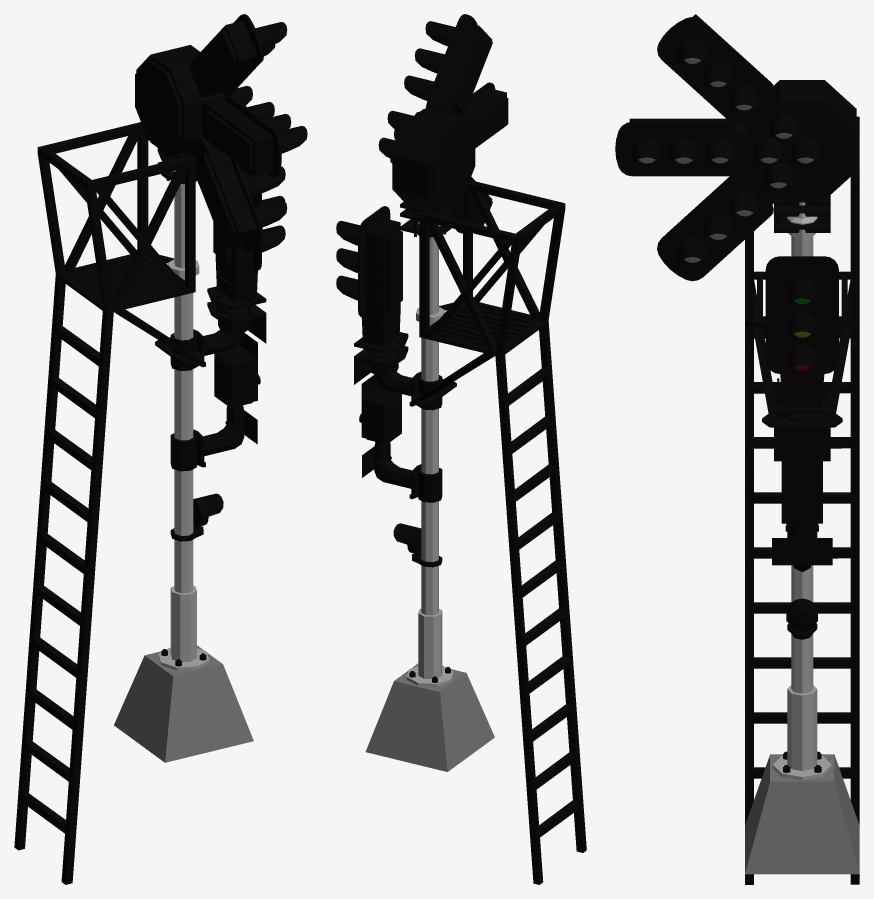
File: home-signal-transformed.glb
3 renders of one model, left to right at view 1: azimuth 30°, elevation 25°; view 2: azimuth 150°, elevation 25°; view 3: azimuth 270°, elevation 25°, orthographic. The views are drawn at different scales.
Parts seen in each view (by area): view 1: Stairs.001, stand.001, pole.001, Octagon_with_7.001, SLLL.001, SLLM, SLLT, Lights_1.001, cube.001, board.003, board.002, FS_3.001 (+4 smaller); view 2: Stairs.001, stand.001, pole.001, Octagon_with_7.001, Lights_1.001, SLLT, cube.001, SLLM, board.003, board.002, FS_3.001, FS_2.001 (+5 smaller); view 3: Stairs.001, stand.001, Lights_1.001, Octagon_with_7.001, pole.001, SLLM, SLLT, SLLL.001, hs_18.001, cube.001, hs_16.001, Light_1.001 (+20 smaller).
Part boxes in pixels (box(x1,y1,x2,y2)): Stairs.001: box(14, 122, 199, 884); stand.001: box(114, 645, 253, 762); pole.001: box(158, 170, 209, 670); Octagon_with_7.001: box(135, 45, 224, 156); SLLL.001: box(189, 138, 262, 251); SLLM: box(202, 96, 281, 177); SLLT: box(189, 14, 262, 97); Lights_1.001: box(207, 167, 266, 324); cube.001: box(214, 345, 257, 407); board.003: box(193, 405, 245, 467); board.002: box(193, 306, 248, 367); FS_3.001: box(155, 333, 204, 370); Stairs.001: box(416, 180, 586, 884); stand.001: box(365, 663, 494, 771); pole.001: box(406, 221, 453, 686); Octagon_with_7.001: box(392, 109, 475, 212); Lights_1.001: box(354, 206, 408, 366); SLLT: box(425, 14, 492, 117); cube.001: box(361, 386, 401, 443); SLLM: box(461, 82, 508, 148); board.003: box(373, 442, 421, 499); board.002: box(370, 350, 421, 406); FS_3.001: box(411, 375, 456, 410); FS_2.001: box(418, 467, 442, 502); Stairs.001: box(745, 116, 859, 884); stand.001: box(745, 754, 859, 874); Lights_1.001: box(765, 256, 838, 430); Octagon_with_7.001: box(748, 80, 856, 200); pole.001: box(773, 202, 831, 780); SLLM: box(615, 118, 747, 176); SLLT: box(657, 14, 776, 127); SLLL.001: box(657, 167, 776, 281); hs_18.001: box(774, 430, 830, 461); cube.001: box(781, 476, 822, 525); hs_16.001: box(772, 538, 832, 565); Light_1.001: box(786, 598, 817, 630).
Size of the model in its own units: 2.05 by 6.86 by 1.6.
Materials: 3 (3 with a texture image).
